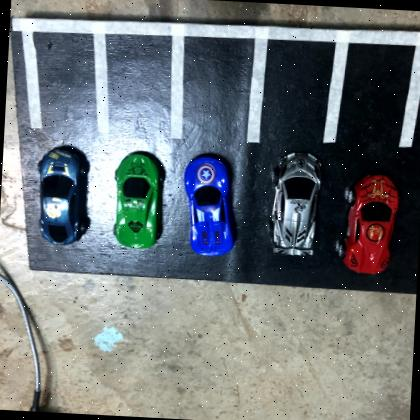Car: (338, 170, 400, 276), (179, 153, 239, 258), (266, 151, 323, 258), (112, 151, 166, 250), (34, 146, 87, 246)
